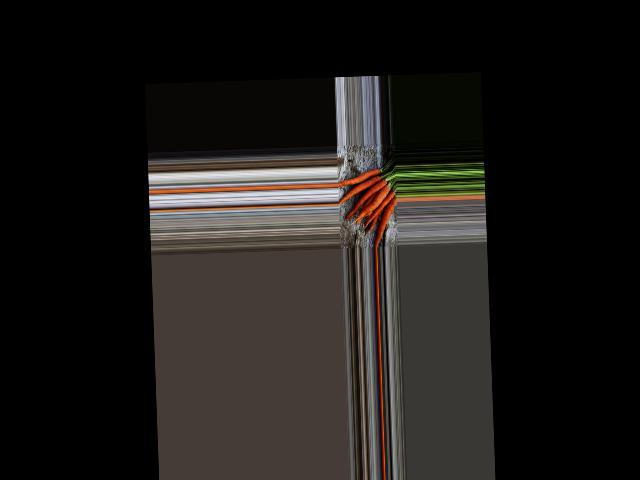carrot: (371, 193, 398, 246)
